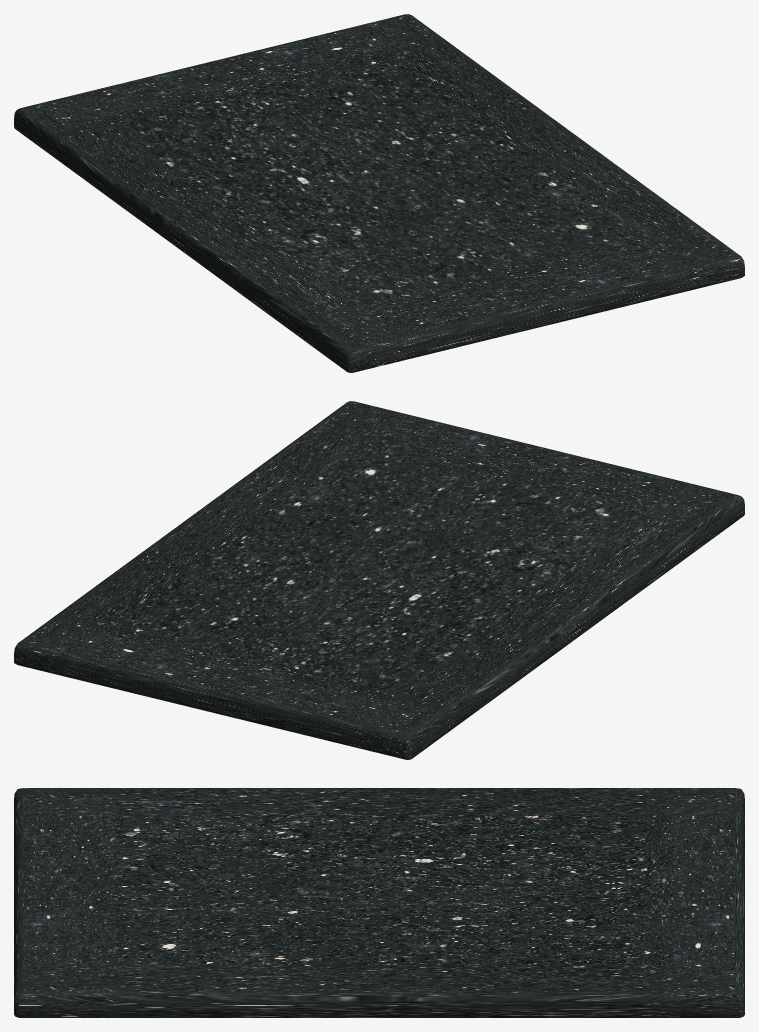
File: IslandTop.fbx
The picture shows the model from 3 angles, top to bottom: view 1: azimuth 30°, elevation 25°; view 2: azimuth 150°, elevation 25°; view 3: azimuth 270°, elevation 25°; orthographic projection. The views are drawn at different scales.
Parts seen in each view (by area): view 1: islandTop; view 2: islandTop; view 3: islandTop.
Part boxes in pixels (box(x1,y1,x2,y2)): islandTop: box(14, 14, 744, 372); islandTop: box(14, 401, 744, 759); islandTop: box(14, 788, 744, 1017).
Bounding box in the file's own units: 58.31 × 2.98 × 85.45.
1 material, 1 textured.
